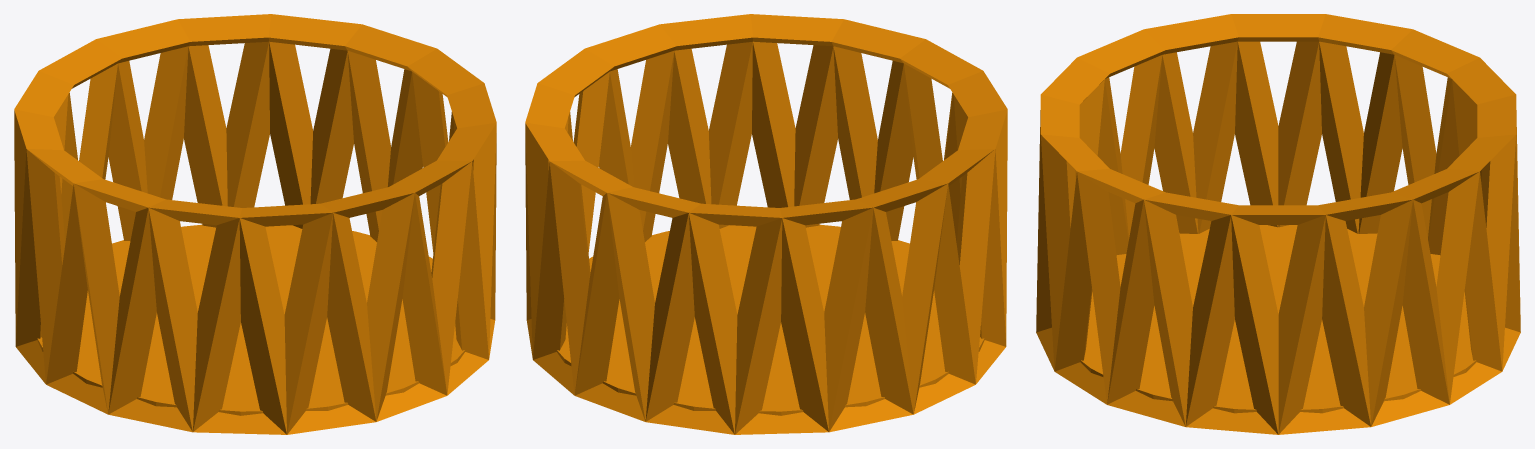
File: cage.glb
3 views of the same model, side by side, from view 1: azimuth 30°, elevation 25°; view 2: azimuth 150°, elevation 25°; view 3: azimuth 270°, elevation 25° (orthographic).
Parts seen in each view (by area): view 1: 円柱, 円柱.001; view 2: 円柱, 円柱.001; view 3: 円柱, 円柱.001.
Boxes of the visible parts, x1,y1,x2,y2 form: 円柱: (14,14,496,434); 円柱.001: (37,224,465,415); 円柱: (525,14,1007,434); 円柱.001: (556,224,984,415); 円柱: (1036,14,1520,434); 円柱.001: (1080,225,1476,413).
Bounding box in the file's own units: 4.3 × 2.17 × 4.3.
